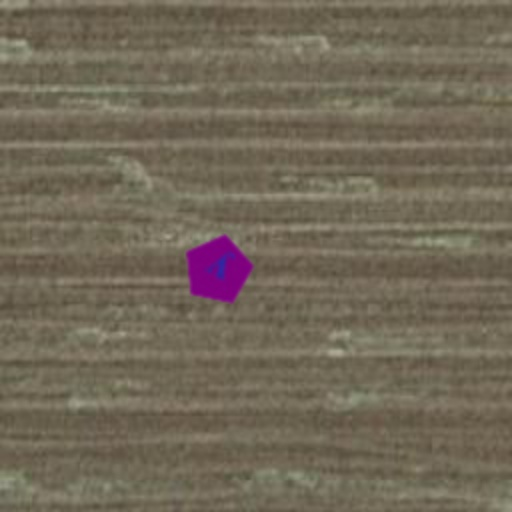pentagon: (166, 218, 270, 322)
